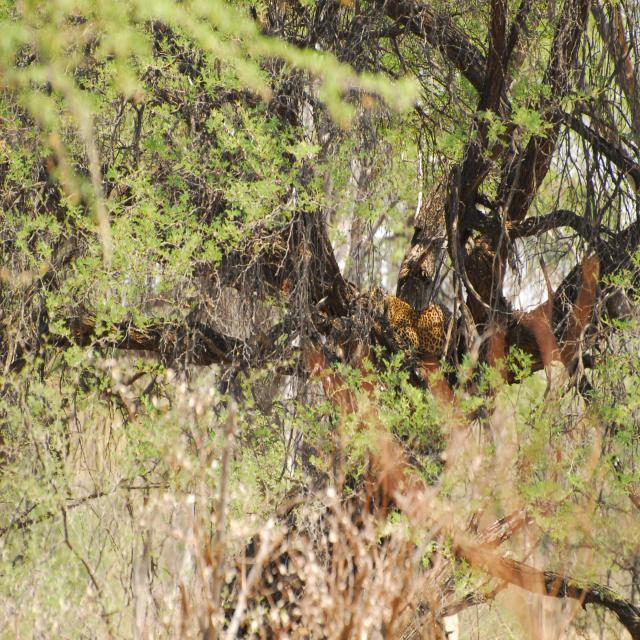Leopard: (369, 286, 467, 375)
